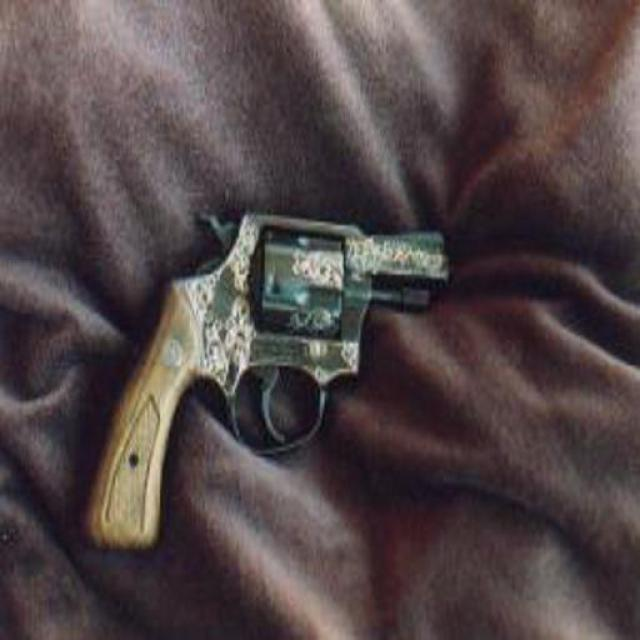pistol: (80, 209, 456, 548)
